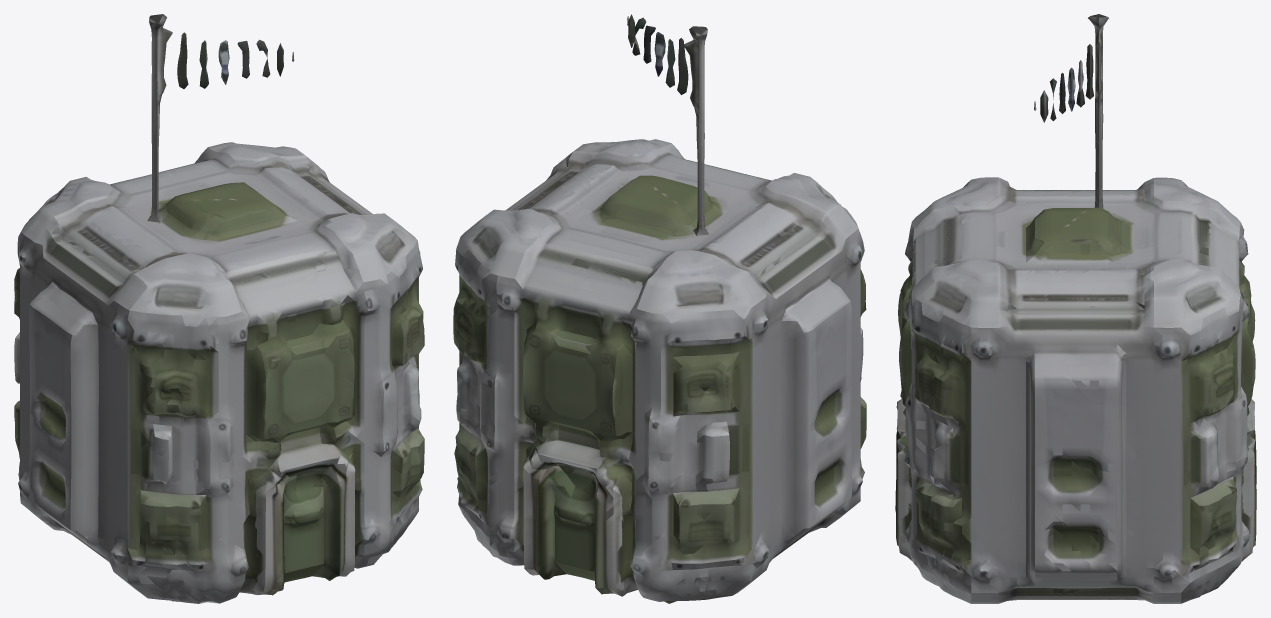
Rendered from FrontlineCamp.glb.
3 renders of one model, left to right at view 1: azimuth 30°, elevation 25°; view 2: azimuth 150°, elevation 25°; view 3: azimuth 270°, elevation 25°, orthographic. The views are drawn at different scales.
Visible parts, largest first — view 1: tmp47xpixco.ply; view 2: tmp47xpixco.ply; view 3: tmp47xpixco.ply.
Part boxes in pixels (left/top/right/bottom): tmp47xpixco.ply: left=14, top=14, right=424, bottom=603; tmp47xpixco.ply: left=453, top=14, right=866, bottom=603; tmp47xpixco.ply: left=895, top=14, right=1256, bottom=603.
Bounding box in the file's own units: 1.31 × 1.93 × 1.23.
Materials: 1 (1 with a texture image).
